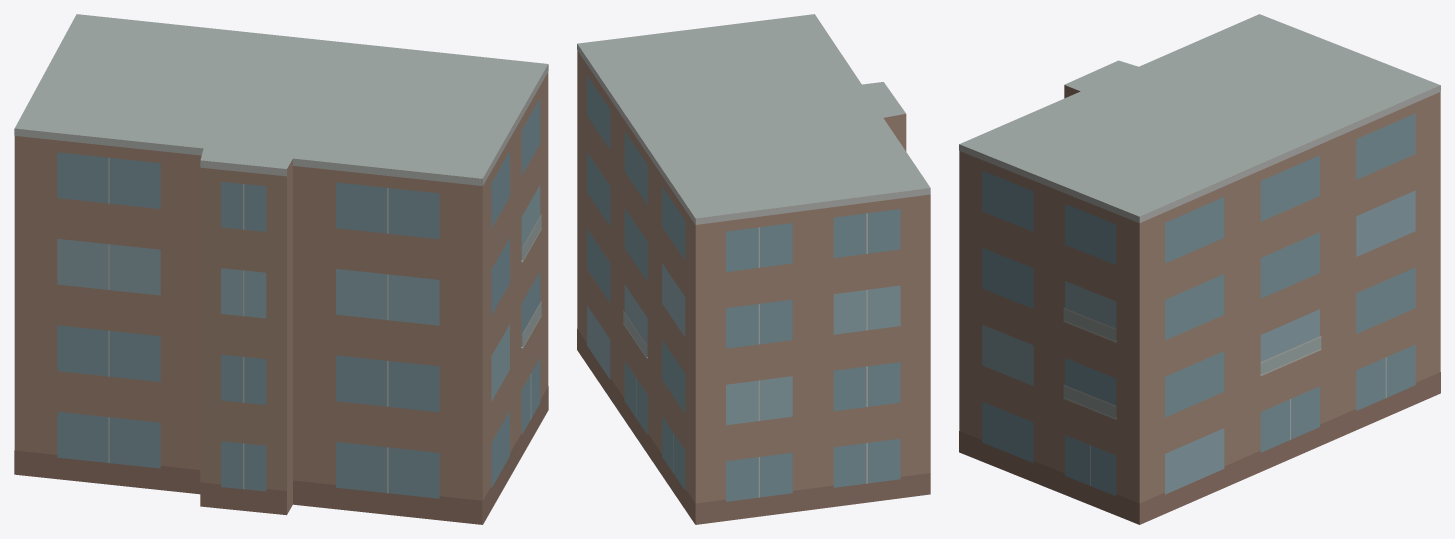
File: survey-upis-32637870.glb
3 renders of one model, left to right at view 1: azimuth 30°, elevation 25°; view 2: azimuth 150°, elevation 25°; view 3: azimuth 270°, elevation 25°, orthographic. The views are drawn at different scales.
Visible parts, largest first — view 1: survey-upis-32637870.tmp; view 2: survey-upis-32637870.tmp; view 3: survey-upis-32637870.tmp.
Part boxes in pixels (<box>): survey-upis-32637870.tmp: <box>14,14,548,524</box>; survey-upis-32637870.tmp: <box>577,14,930,524</box>; survey-upis-32637870.tmp: <box>959,14,1440,524</box>.
Bounding box in the file's own units: 16.38 × 11.6 × 16.44.
